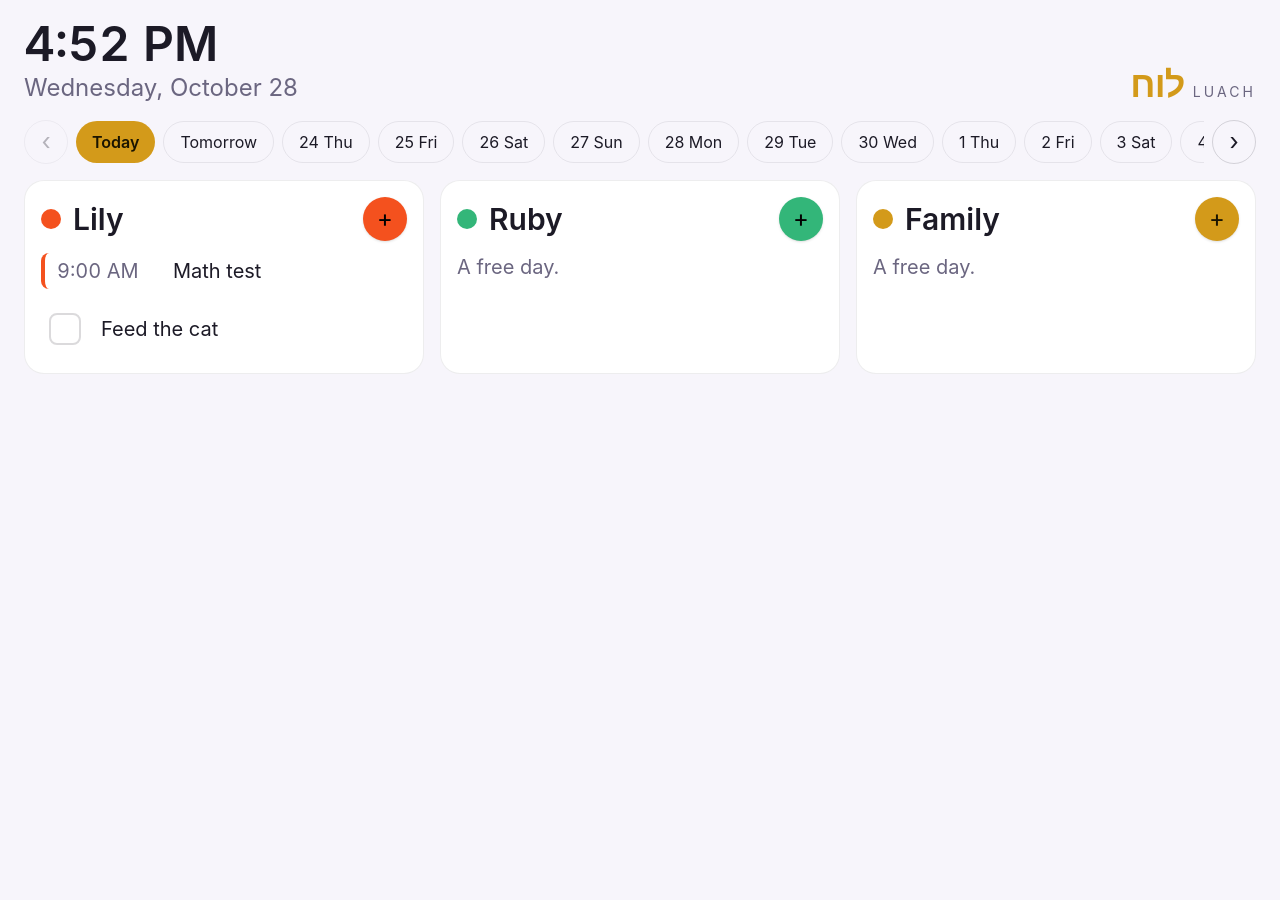
Test: holding a card on the board › someone else’s invitation cannot be lifted, and a hold says why
This screenshot has width=1280, height=900.
Expected: the element "Lily" is shown, left=24, top=180, right=424, bottom=374
Press the mouse on the list item "9:00 AM Math test": (224, 271) left=41, top=253, right=407, bottom=289
Wait 460 ms
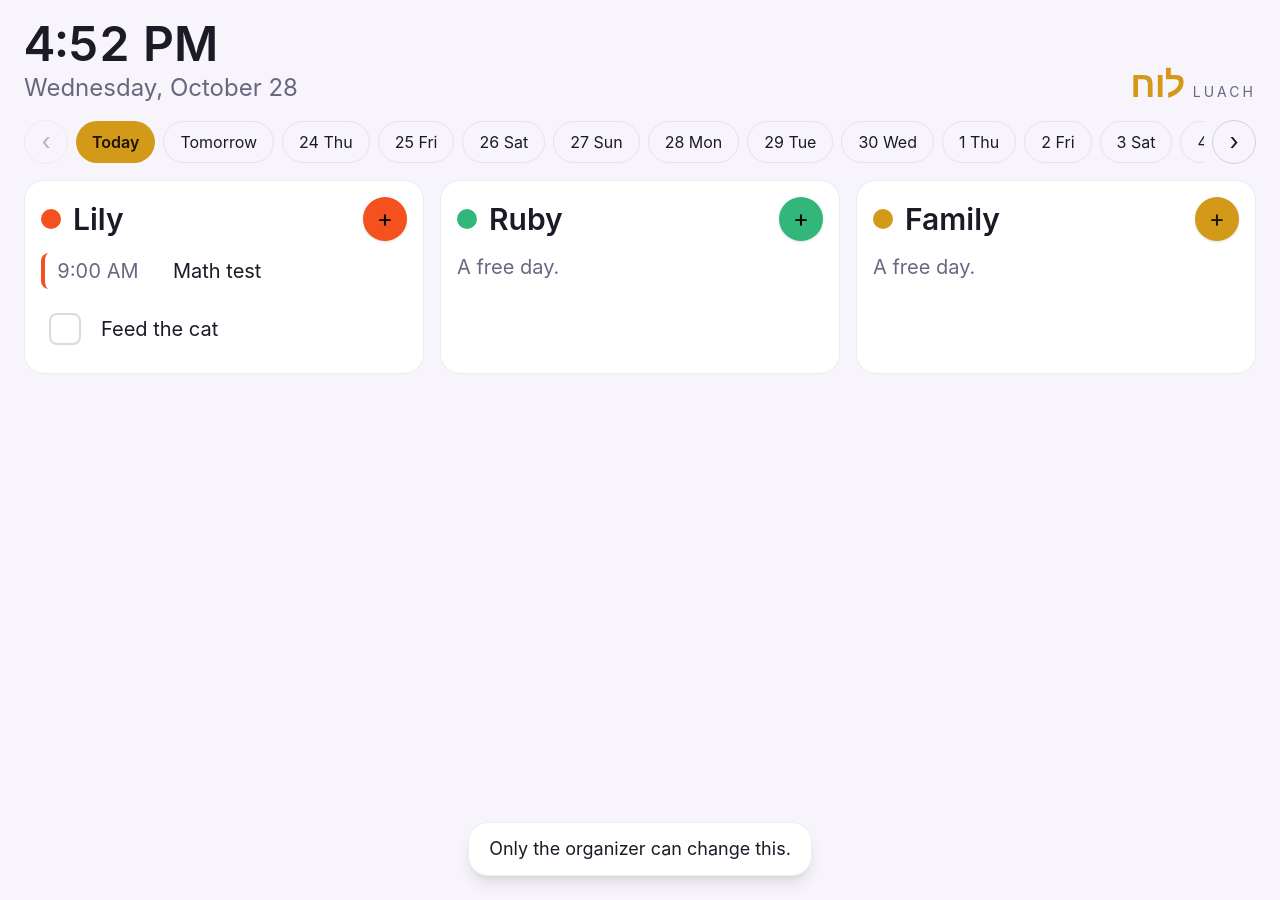
Now the text "Only the organizer can change this." is shown, box left=489, top=835, right=791, bottom=863
